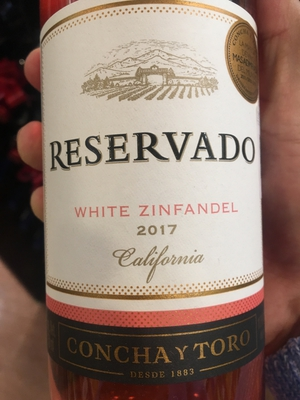reservado white zinfandel: (37, 2, 267, 397)
